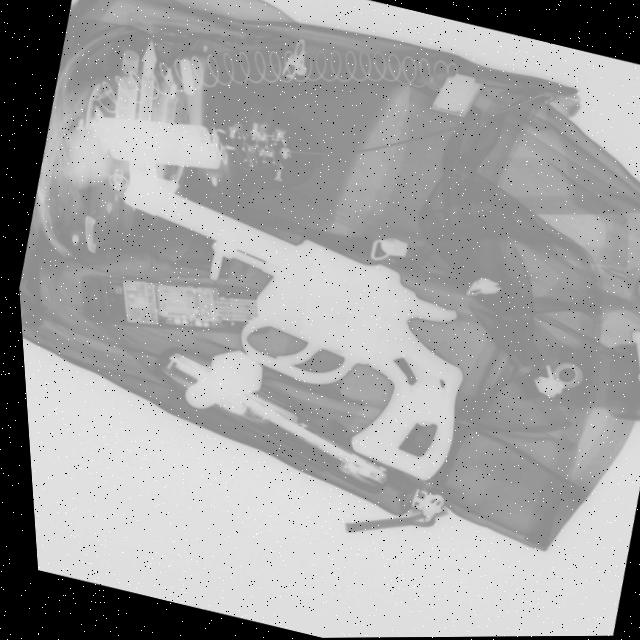pistol: (65, 163, 497, 489)
